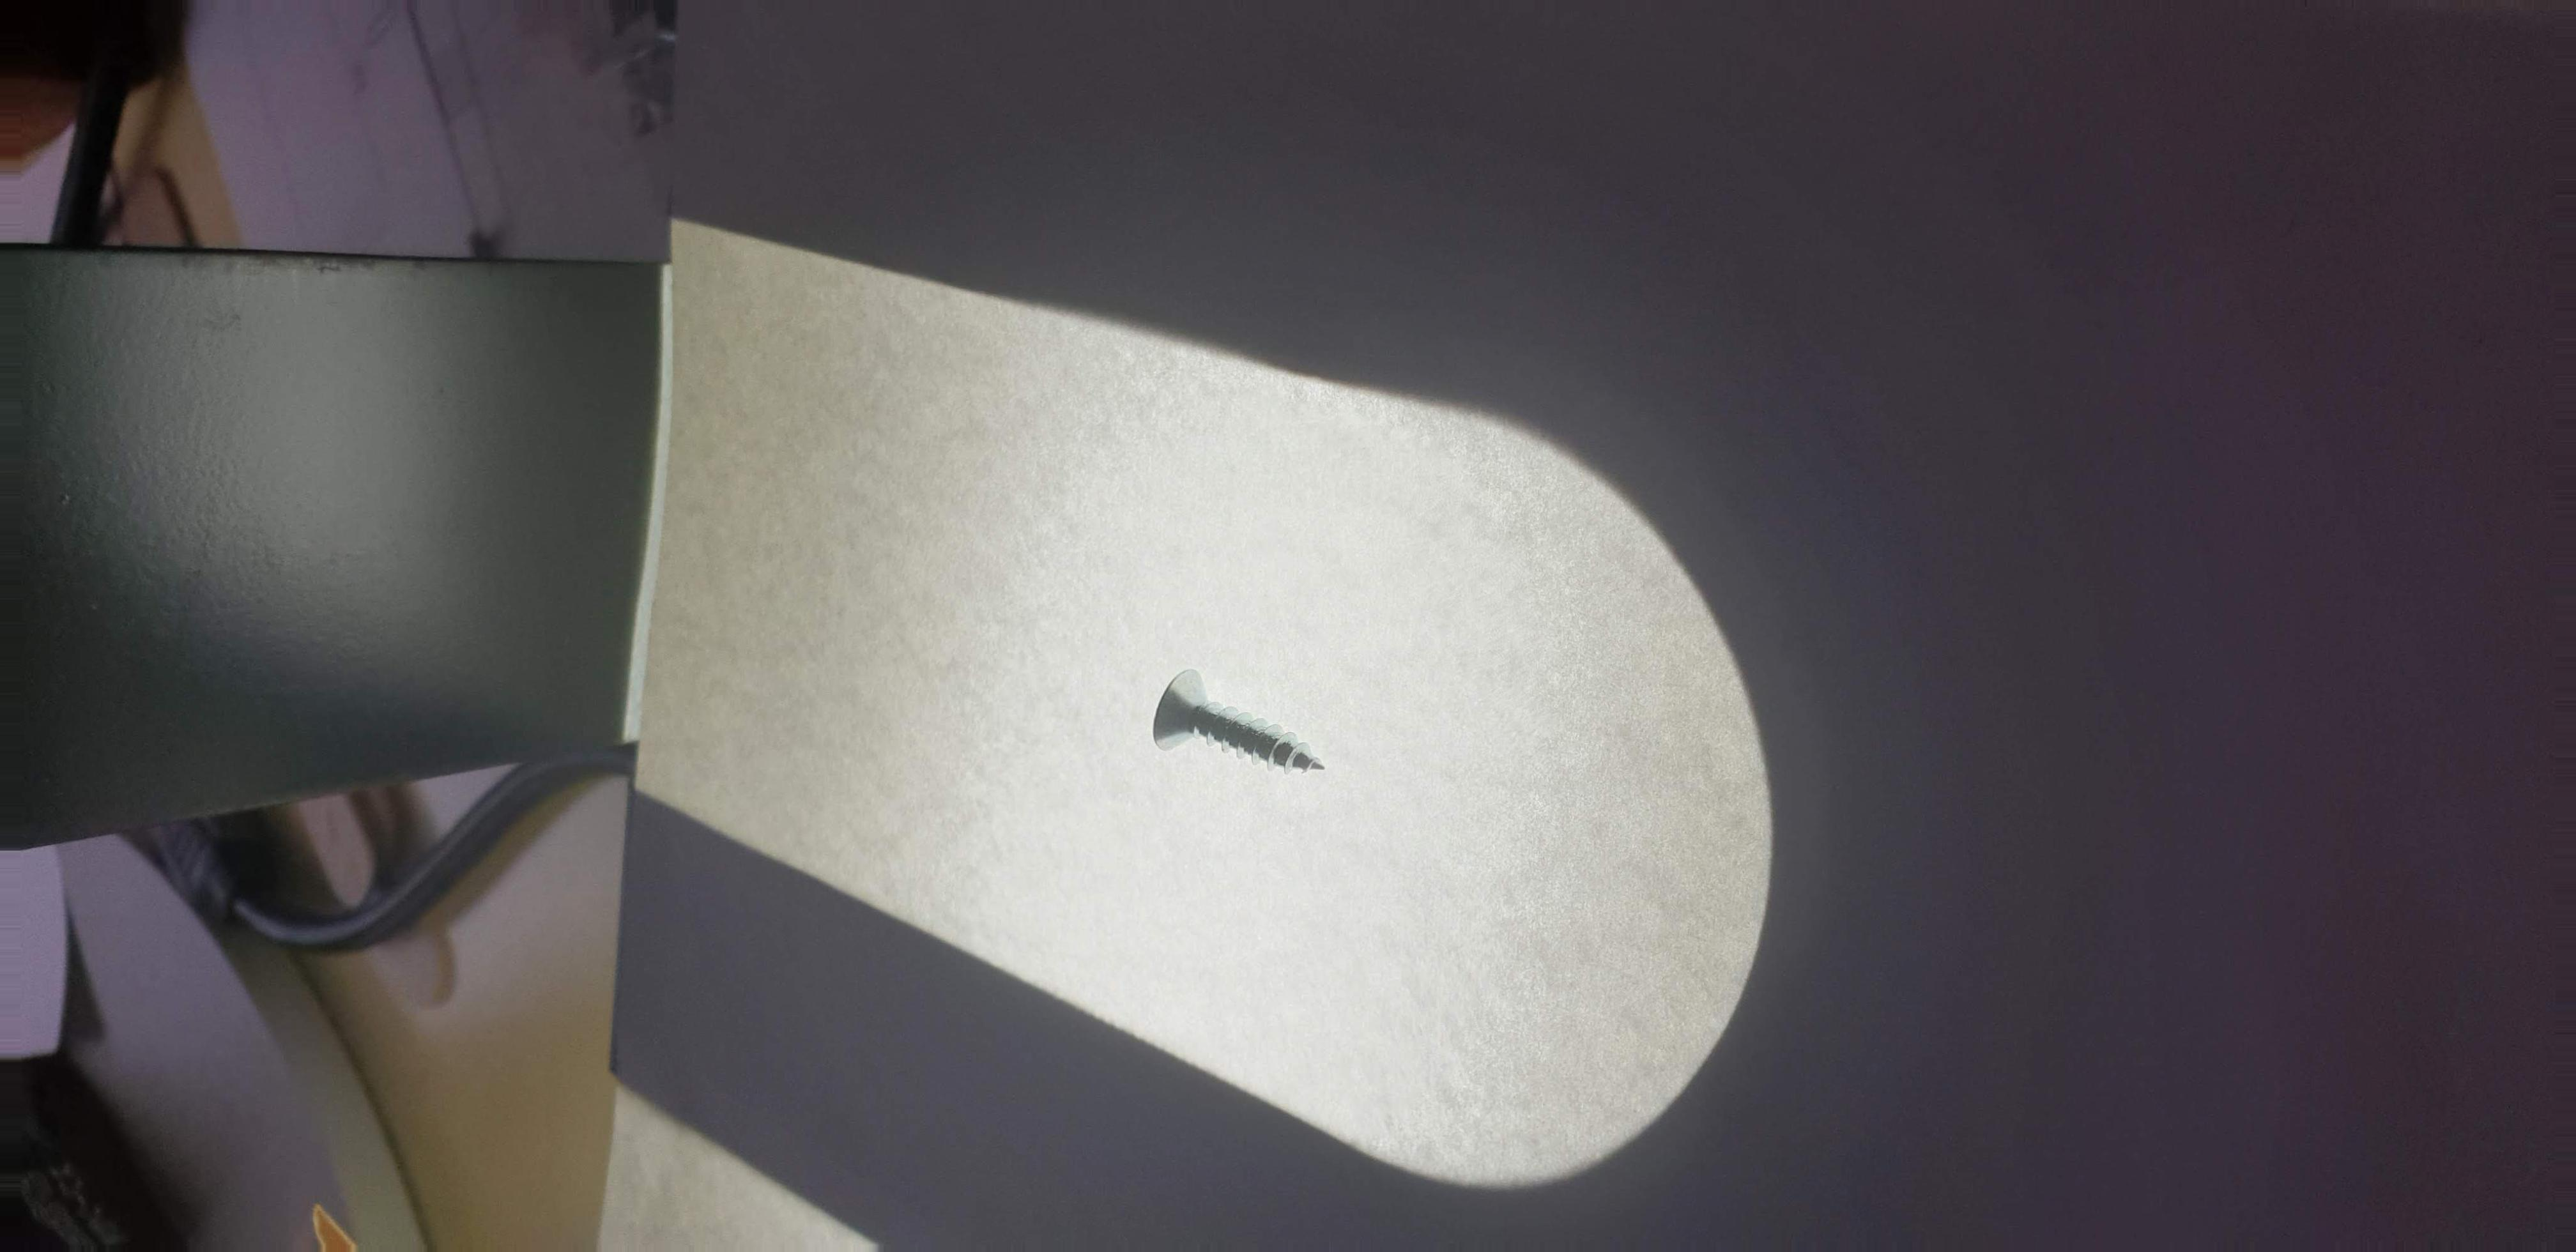S003: (1120, 638, 1357, 805)
